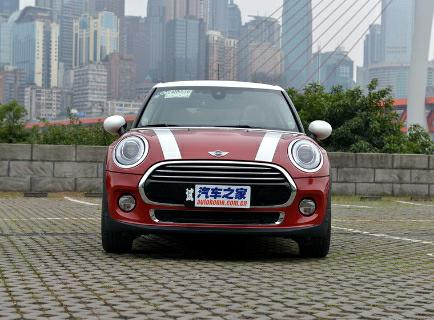MINI: (104, 84, 333, 253)
